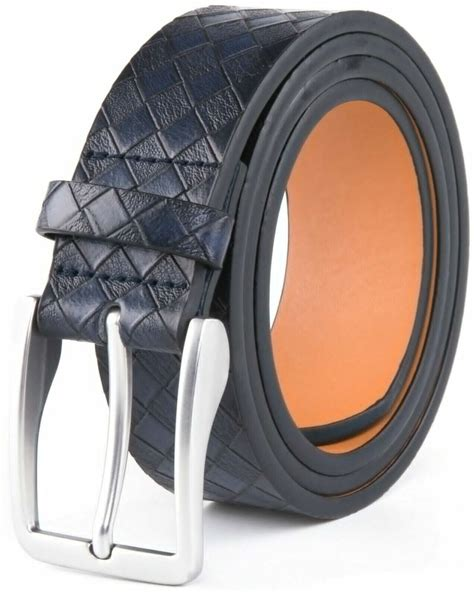cuero: (37, 6, 471, 522)
